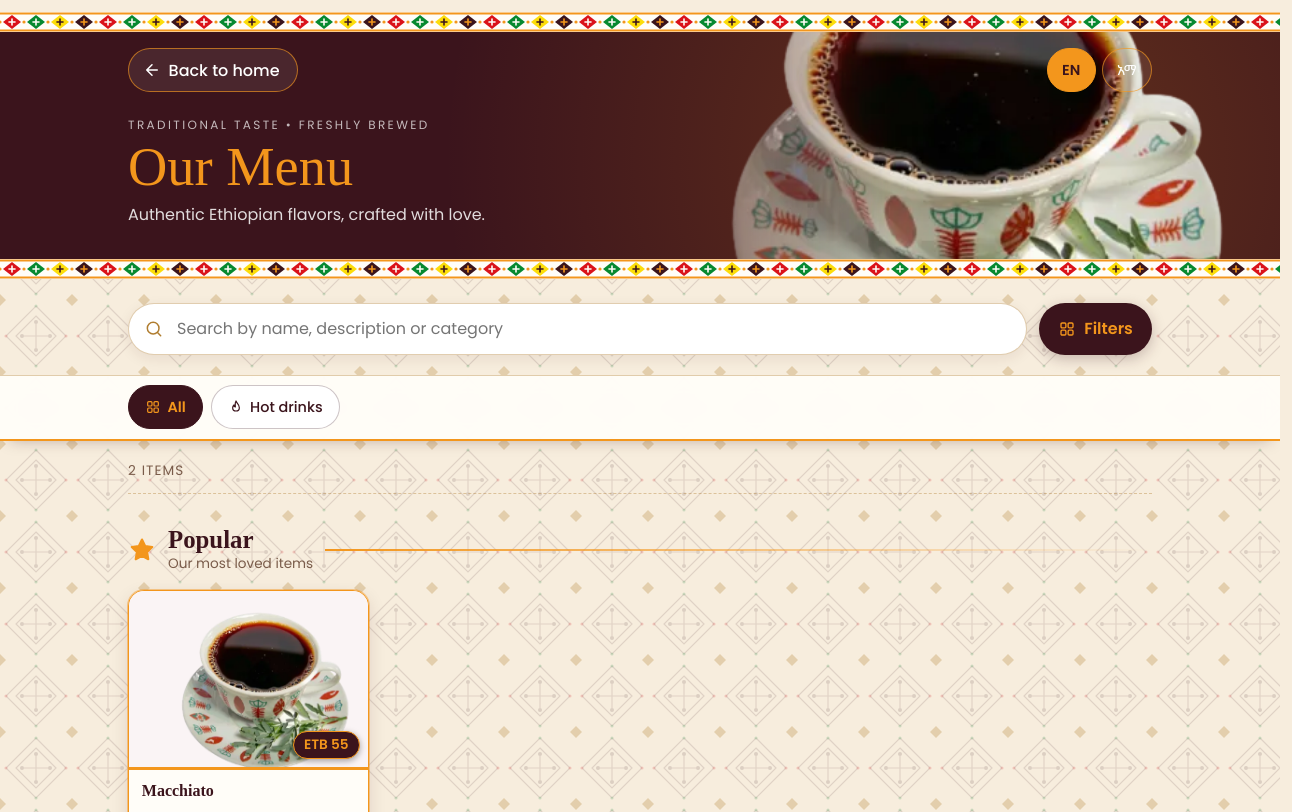
Test: MenuPage popular section and badges › hides Popular while a filter is active
The width and height of the screenshot is (1292, 812).
Type "capp" into the search field named "Search the menu" at (578, 329), box [128,303,1027,355]
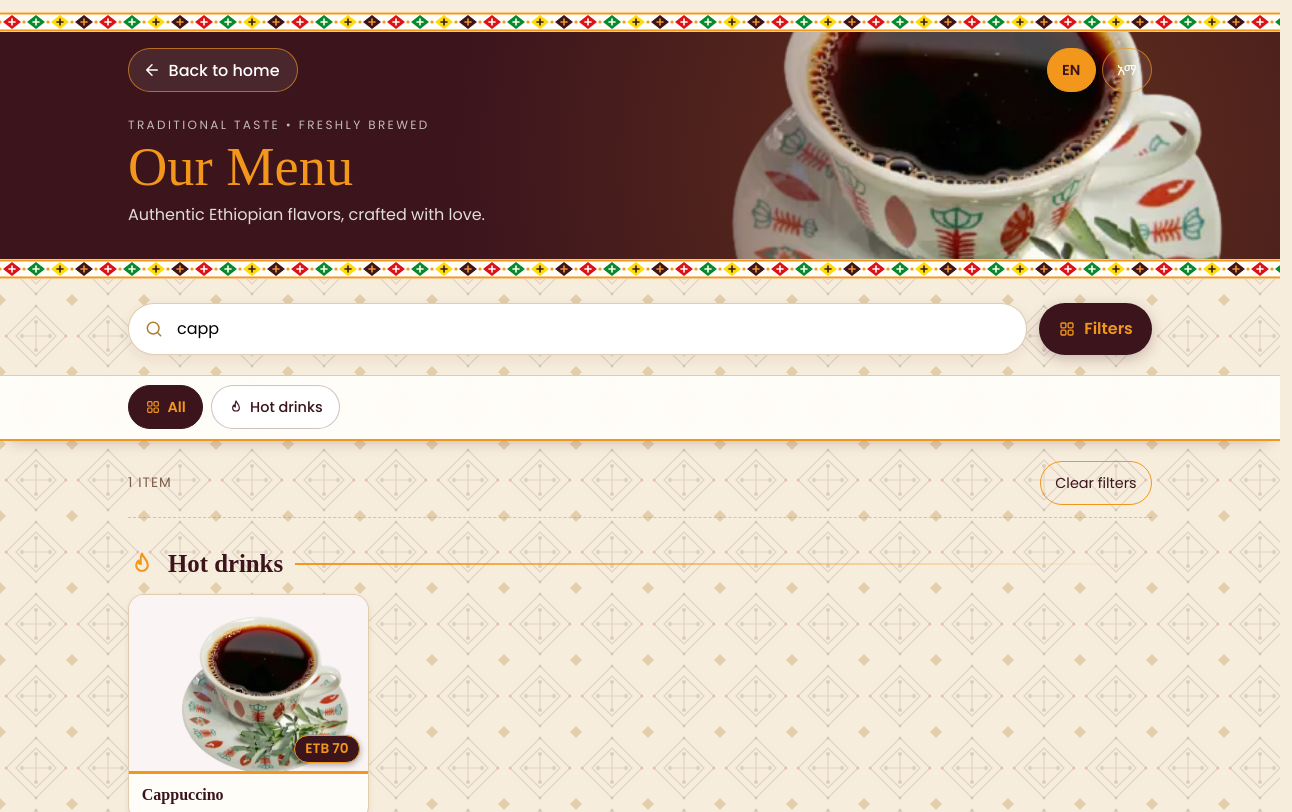
Now the heading "Popular" is gone
